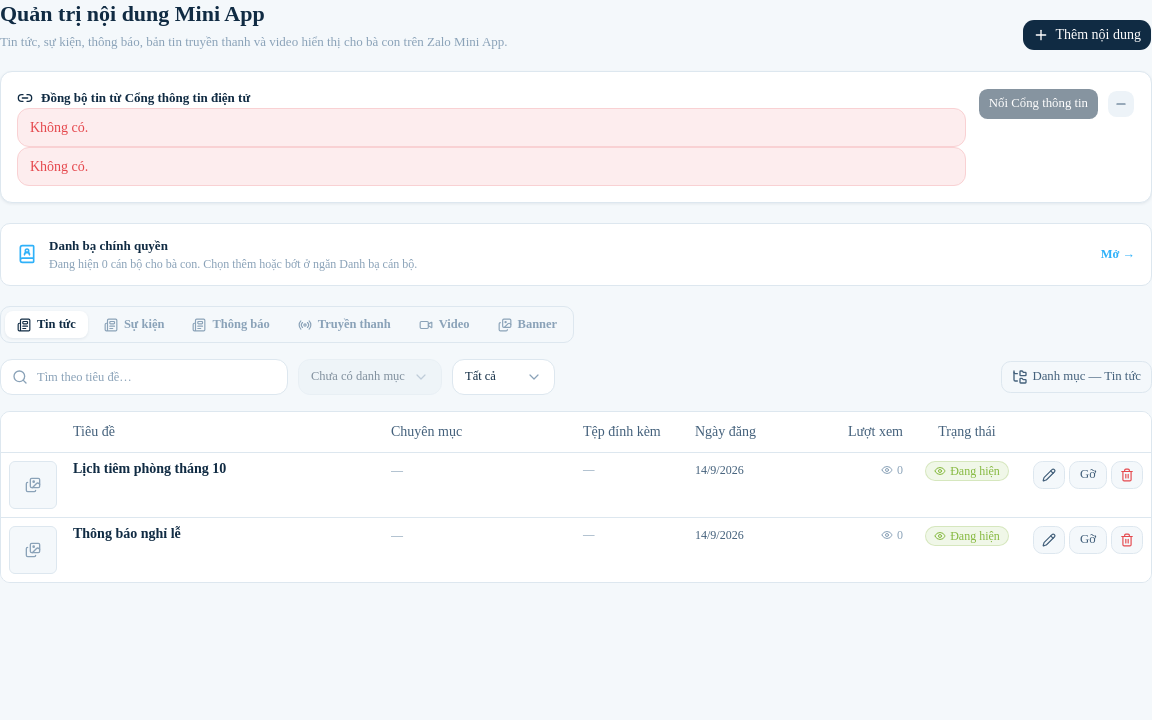
Test: after the server answered › 403: the dialog stays with the server's sentence; the list is NOT read again
Click the button named "Xoá: Lịch tiêm phòng tháng 10". click: {"x": 1127, "y": 474}
box: [1111,460,1143,488]
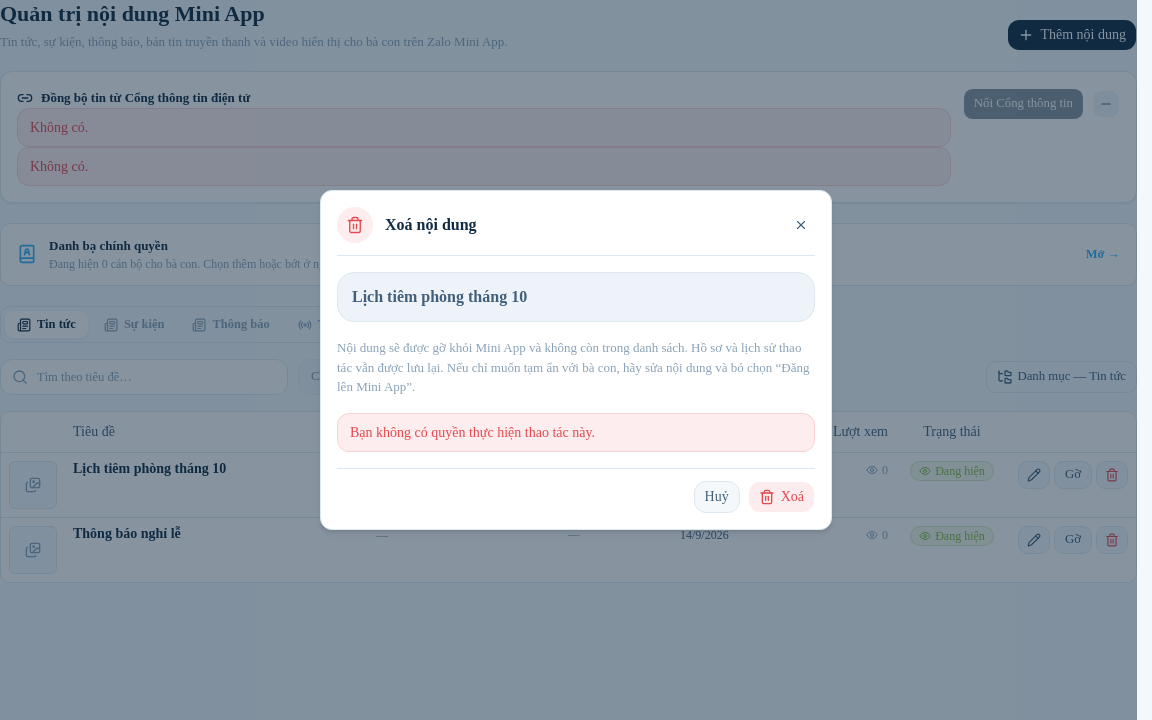
Expected: the heading "Xoá nội dung" is shown, [385,216,477,233]
Expected: the message "Bạn không có quyền thực hiện thao tác này." is shown, [337,413,815,452]
